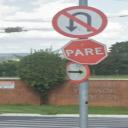NoVirarU: (50, 6, 108, 40)
